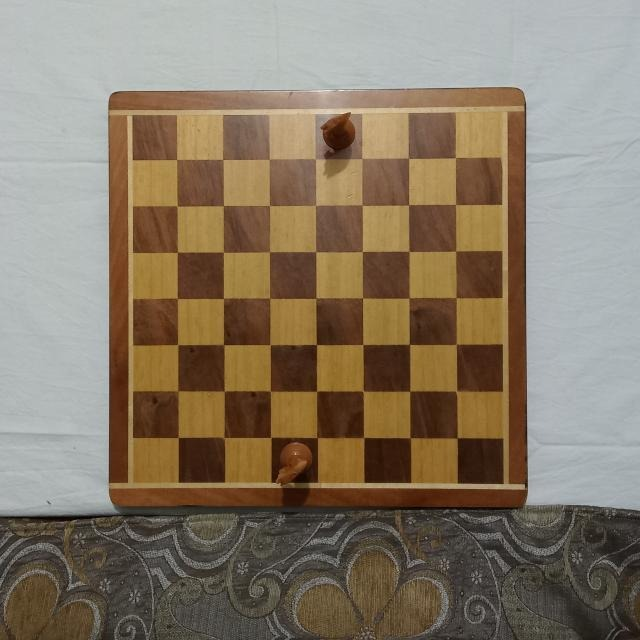white-knight: (271, 439, 313, 485), (318, 111, 357, 153)
